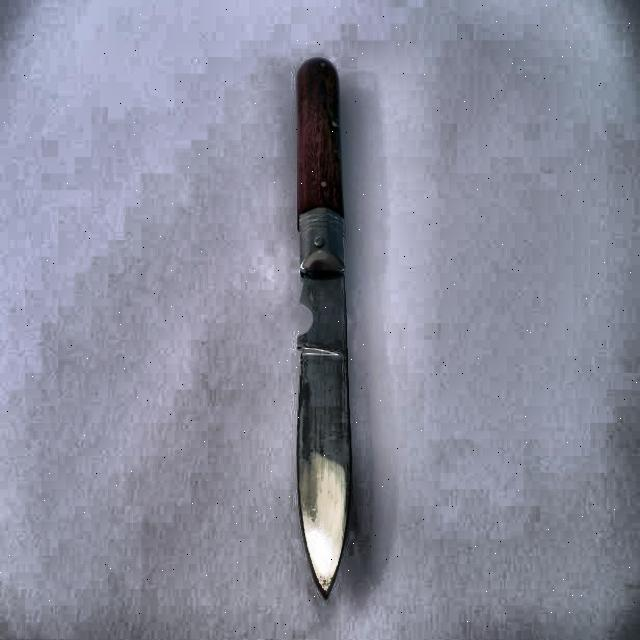knife: (291, 54, 356, 597)
